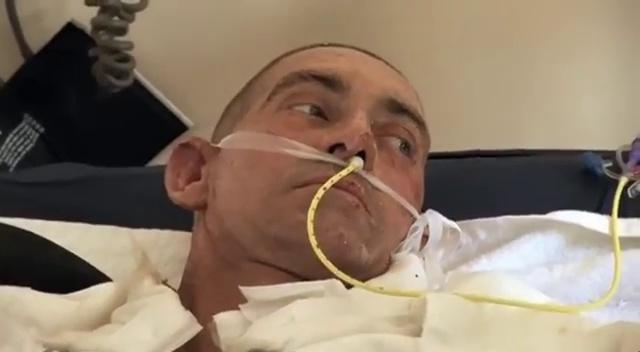patient: (0, 40, 638, 350)
